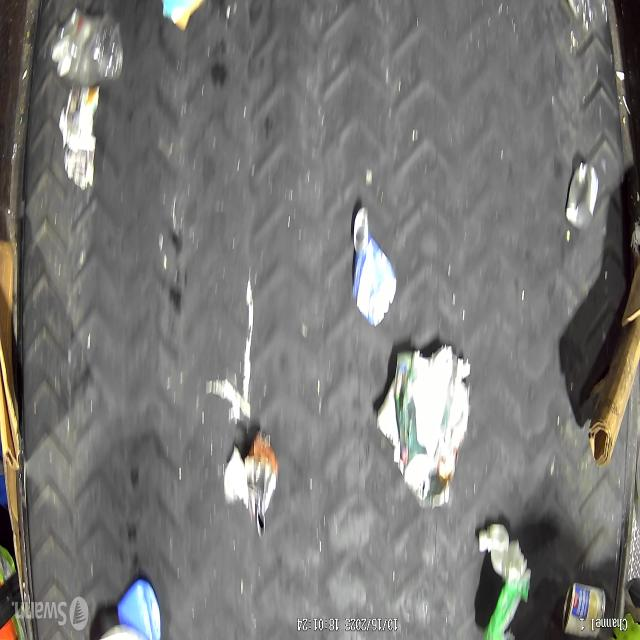can: (223, 432, 278, 538), (562, 582, 606, 639)
plastic_bottle: (45, 12, 124, 84)
